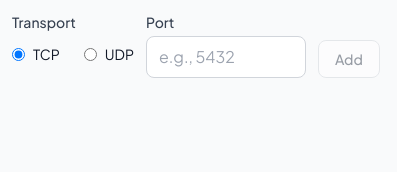
Test: PortClaimPicker › adds a claim via the transport toggle, number input and Add
Click the radio button labelled "UDP": click(90, 54) [84,48,97,60]
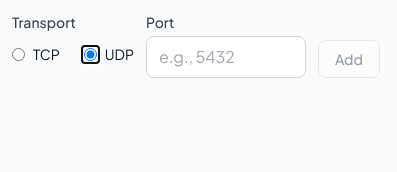
In the field labelled "Port": (226, 57) [146,36,306,78], type "53"
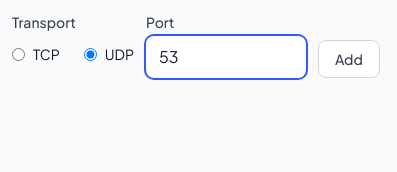
Click the button "Add": click(349, 59) [318,40,380,78]
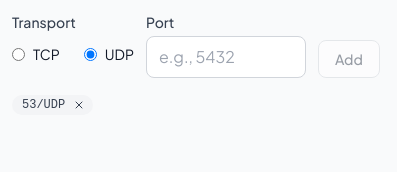
Now the text "53/UDP" is shown, box [12,95,93,115]
Now the field labelled "Port" is empty, box [146,36,306,78]
